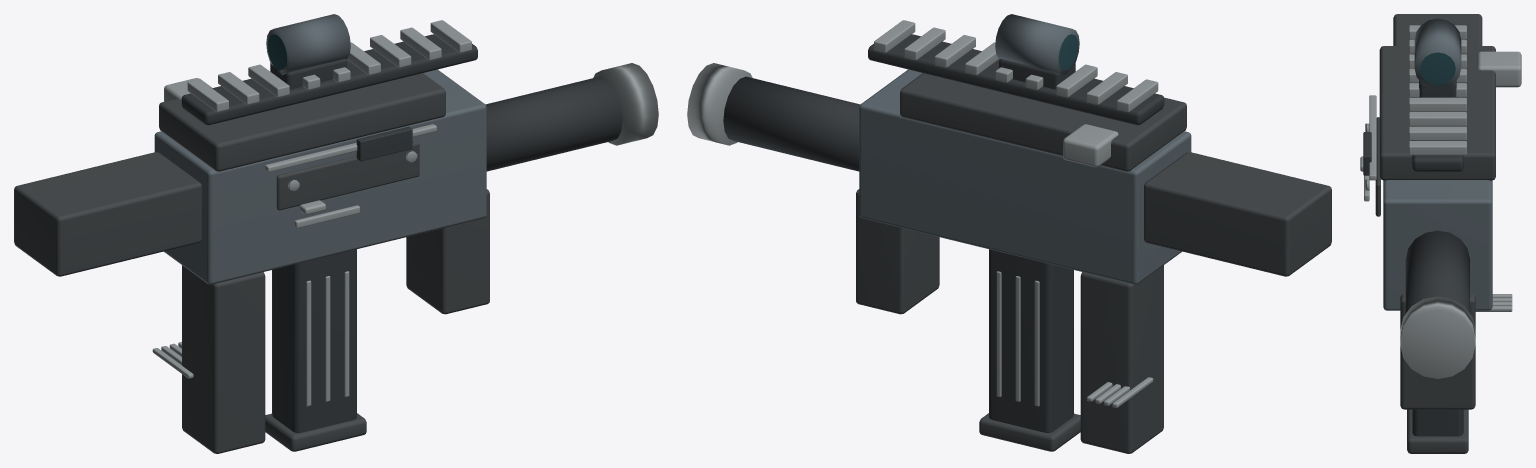
File: smg-reload.glb
The picture shows the model from 3 angles, left to right: view 1: azimuth 30°, elevation 25°; view 2: azimuth 150°, elevation 25°; view 3: azimuth 270°, elevation 25°; orthographic projection. The views are drawn at different scales.
Parts seen in each view (by area): view 1: Compact receiver, Rear stock, Grip, Polymer upper shell, Detachable magazine shell, Short shrouded barrel, Integrated front grip, Machined upper rail, Inset receiver side panel, Optic housing, Muzzle cap, Impact resistant base plate (+12 smaller); view 2: Compact receiver, Rear stock, Grip, Detachable magazine shell, Polymer upper shell, Short shrouded barrel, Integrated front grip, Machined upper rail, Optic housing, Muzzle cap, Impact resistant base plate, Charging tab (+10 smaller); view 3: Compact receiver, Polymer upper shell, Muzzle cap, Short shrouded barrel, Integrated front grip, Optic housing, Rear stock, Detachable magazine shell, Impact resistant base plate, Charging tab, Machined upper rail, Front lens (+13 smaller).
Part boxes in pixels (left/top/right/bottom): Compact receiver: left=154, top=69, right=486, bottom=284; Rear stock: left=14, top=152, right=201, bottom=276; Grip: left=182, top=265, right=265, bottom=453; Polymer upper shell: left=159, top=73, right=445, bottom=171; Detachable magazine shell: left=272, top=249, right=356, bottom=432; Short shrouded barrel: left=485, top=76, right=622, bottom=171; Integrated front grip: left=406, top=189, right=489, bottom=314; Machined upper rail: left=181, top=34, right=477, bottom=125; Inset receiver side panel: left=276, top=141, right=419, bottom=210; Optic housing: left=266, top=14, right=350, bottom=75; Muzzle cap: left=593, top=63, right=658, bottom=145; Impact resistant base plate: left=265, top=413, right=366, bottom=451; Compact receiver: left=859, top=69, right=1191, bottom=284; Rear stock: left=1144, top=152, right=1331, bottom=276; Grip: left=1080, top=265, right=1163, bottom=453; Detachable magazine shell: left=989, top=249, right=1073, bottom=432; Polymer upper shell: left=900, top=73, right=1186, bottom=171; Short shrouded barrel: left=723, top=76, right=860, bottom=171; Integrated front grip: left=856, top=189, right=939, bottom=314; Machined upper rail: left=868, top=34, right=1164, bottom=125; Optic housing: left=995, top=14, right=1079, bottom=75; Muzzle cap: left=687, top=63, right=752, bottom=145; Impact resistant base plate: left=979, top=413, right=1080, bottom=451; Charging tab: left=1063, top=124, right=1118, bottom=167; Compact receiver: left=1383, top=180, right=1492, bottom=310; Polymer upper shell: left=1379, top=46, right=1495, bottom=180; Muzzle cap: left=1400, top=296, right=1475, bottom=378; Short shrouded barrel: left=1405, top=230, right=1469, bottom=313; Integrated front grip: left=1400, top=293, right=1475, bottom=409; Optic housing: left=1414, top=18, right=1461, bottom=89; Rear stock: left=1393, top=14, right=1482, bottom=45; Detachable magazine shell: left=1412, top=409, right=1463, bottom=436; Impact resistant base plate: left=1407, top=409, right=1468, bottom=453; Charging tab: left=1477, top=51, right=1521, bottom=87; Machined upper rail: left=1412, top=54, right=1463, bottom=171; Front lens: left=1420, top=52, right=1455, bottom=85.
Bounding box in the file's own units: 0.995 × 0.6478 × 0.236.
